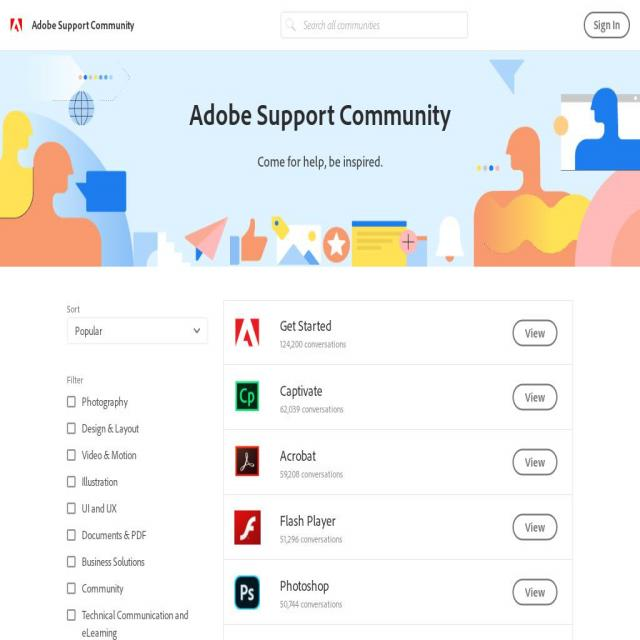filter: (58, 291, 211, 637)
list: (222, 287, 568, 640)
login-option: (580, 7, 634, 44)
navigation-blocks: (227, 295, 578, 637)
search: (276, 4, 477, 43)
